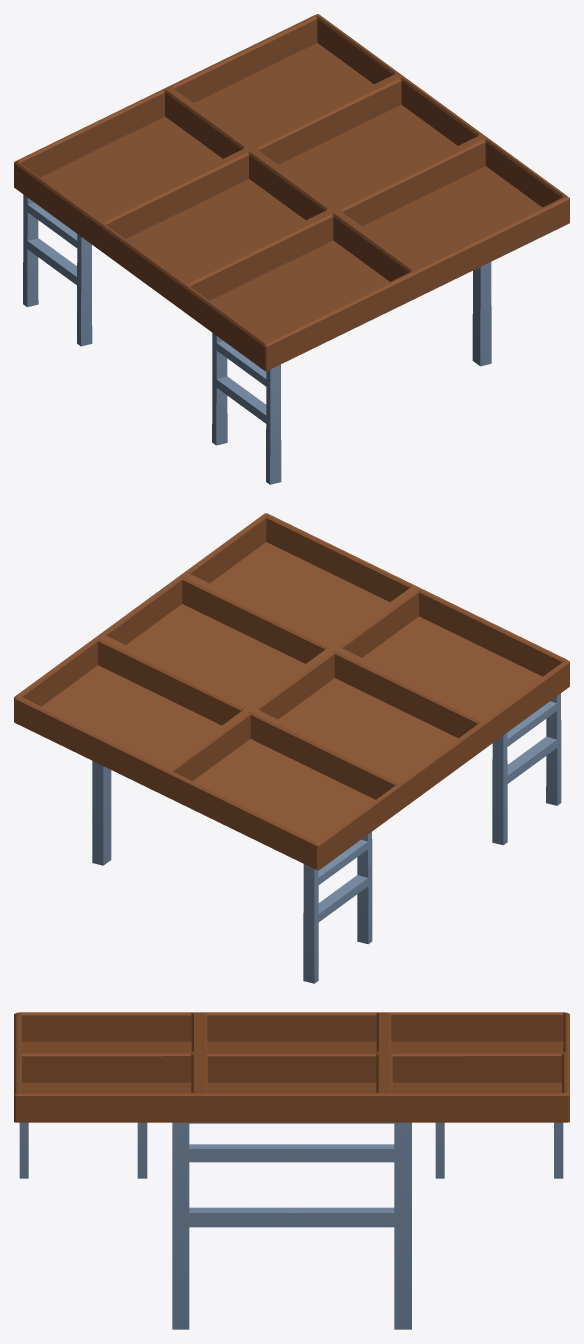
The model's file is TableMarche_v2.fbx.
3 views of the same model, one above another, from view 1: azimuth 30°, elevation 25°; view 2: azimuth 150°, elevation 25°; view 3: azimuth 270°, elevation 25° (orthographic). The views are drawn at different scales.
Visible parts, largest first — view 1: M.plateauBacs.002; view 2: M.plateauBacs.002; view 3: M.plateauBacs.002.
Boxes of the visible parts, <box> form: M.plateauBacs.002: <box>14,14,569,484</box>; M.plateauBacs.002: <box>14,513,569,983</box>; M.plateauBacs.002: <box>14,1012,569,1329</box>.
Size of the model in its own units: 128 by 86.89 by 183.
